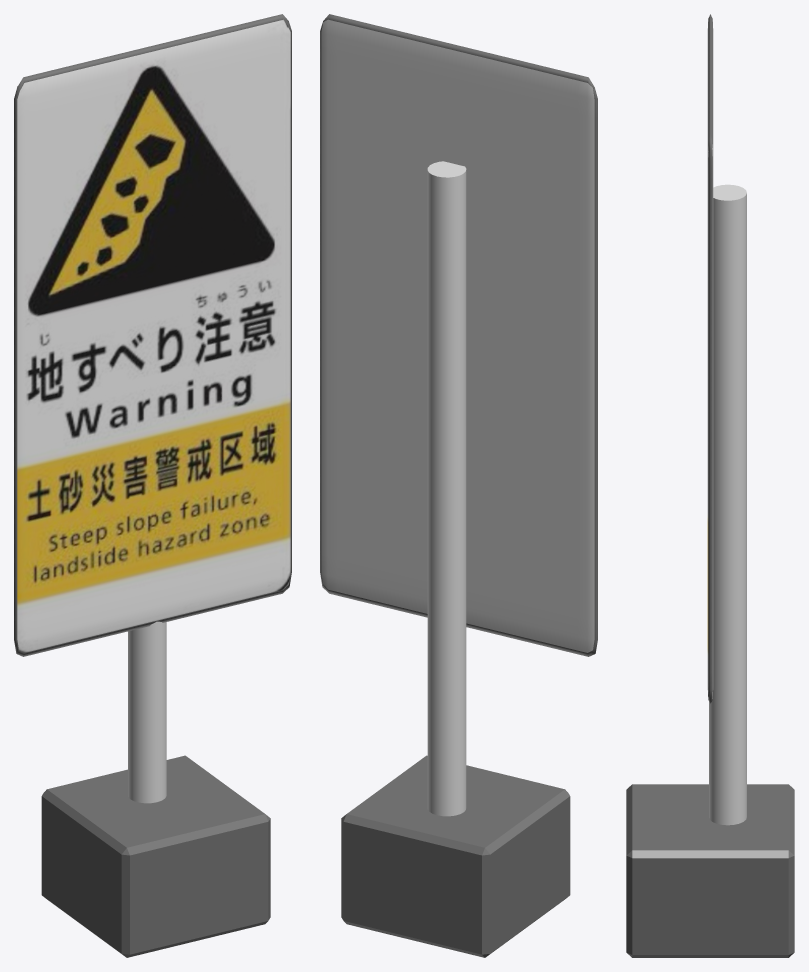
Rendered from Jisuberi.fbx.
The picture shows the model from 3 angles, left to right: view 1: azimuth 30°, elevation 25°; view 2: azimuth 150°, elevation 25°; view 3: azimuth 270°, elevation 25°; orthographic projection. The views are drawn at different scales.
Visible parts, largest first — view 1: Jisuberi1; view 2: Jisuberi1; view 3: Jisuberi1.
Part boxes in pixels (box(x1,y1,x2,y2)): Jisuberi1: box(14, 14, 291, 957); Jisuberi1: box(320, 14, 597, 957); Jisuberi1: box(626, 14, 794, 957).
Size of the model in its own units: 0.4293 by 1.28 by 0.2302.
